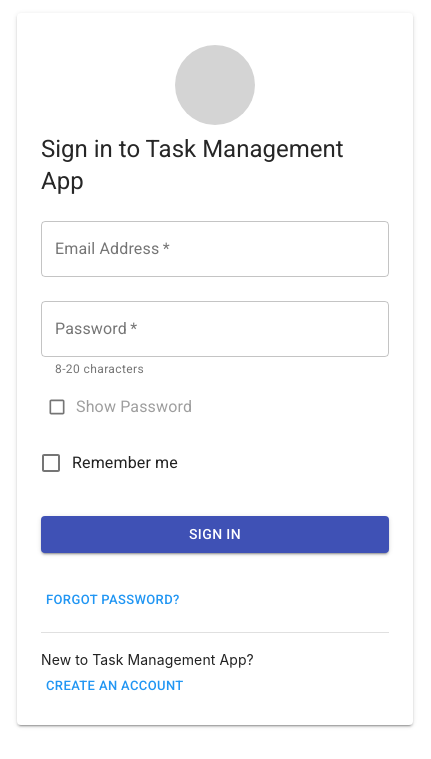
Test: SignIn › Link existence › has a link to the registration page
Click the button "Create an account" at x=115, y=686, box [41, 671, 189, 701]
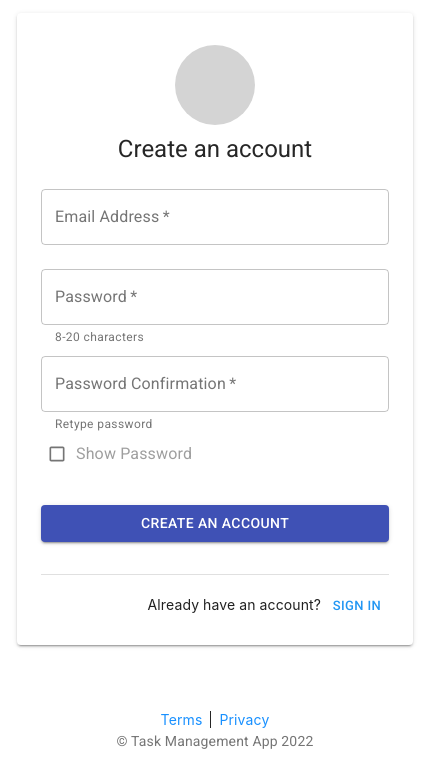
Result: the heading "Create an account" is shown at [118, 133, 312, 165]
